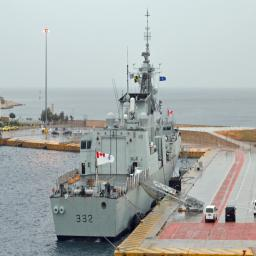Fragata: (48, 1, 185, 245)
